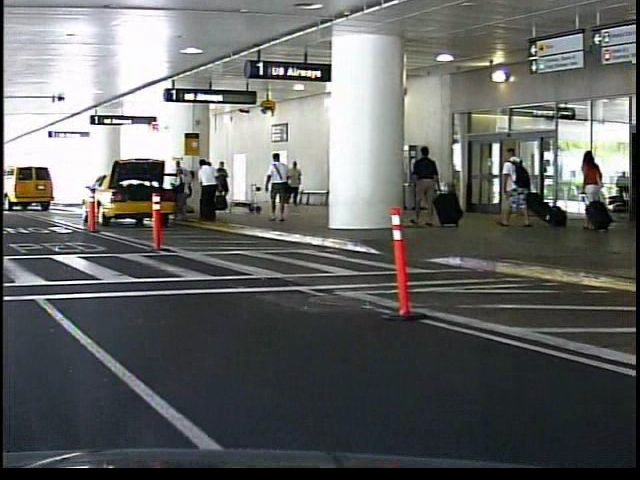person: (496, 142, 533, 227), (571, 144, 606, 230), (405, 142, 437, 228), (259, 150, 290, 223), (282, 160, 301, 208)
